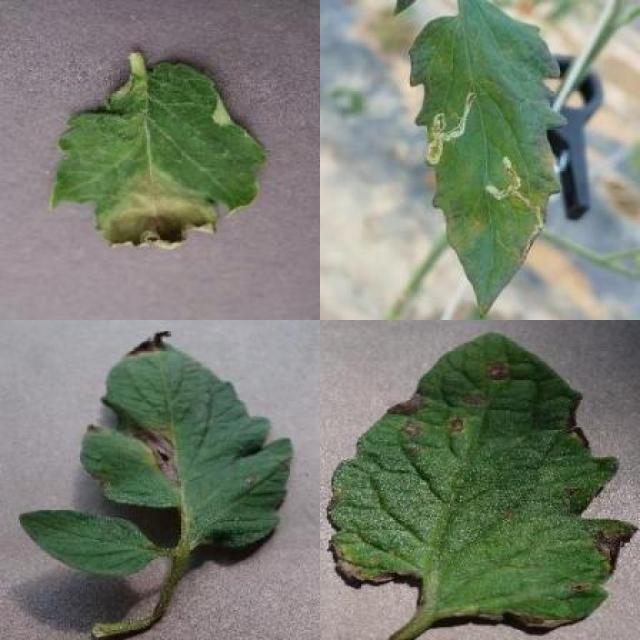Early Blight: (328, 328, 638, 632), (84, 328, 296, 553)
Late Blight: (54, 62, 269, 251)
Leaf Miner: (409, 0, 570, 319)
